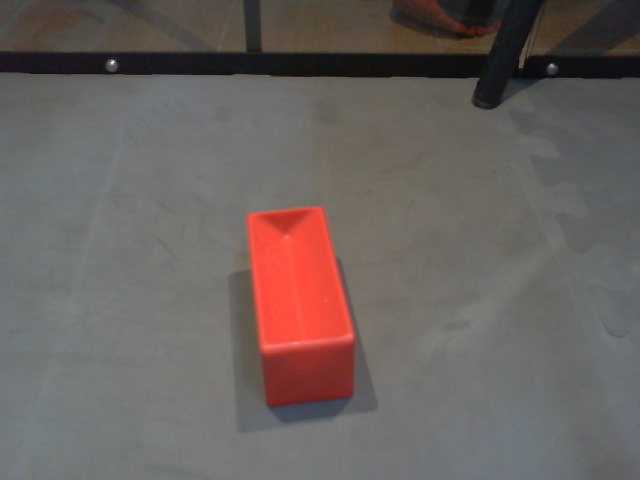RedSample: (242, 205, 357, 408)
